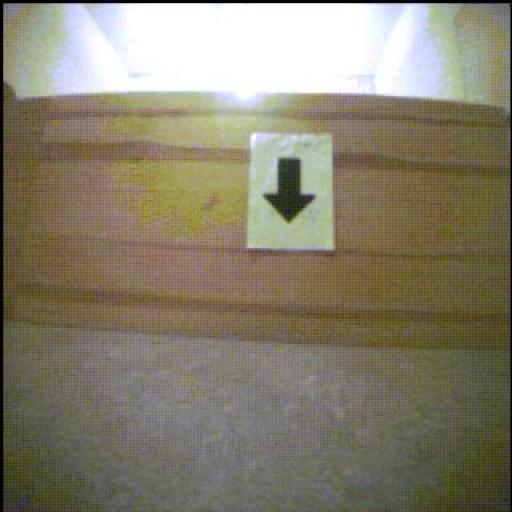Arrow: (265, 160, 316, 224)
